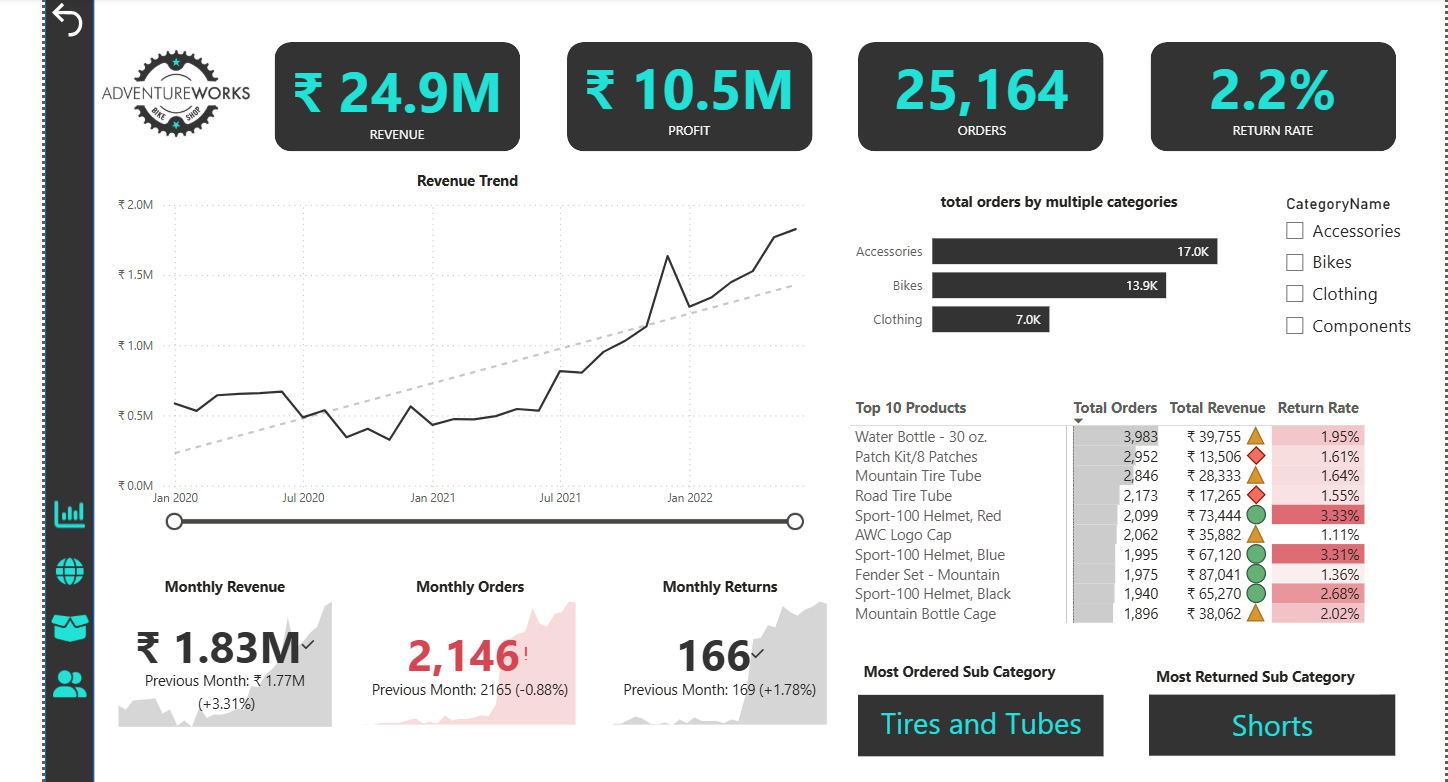

The dashboard page shown, as its layout file describes it:
{"tool":"powerbi","page":{"name":"Exe Dashboard","canvas":[1280,720],"ordinal":0},"visuals":[{"type":"image","title":"Company Logo","box":[37,0,165.9,176.9],"z":0},{"type":"shape","box":[209.8,41.1,224.9,100.1],"z":0,"group":"g1"},{"type":"shape","title":"Left Navigtion Pane","box":[0,0,45,720],"z":1000},{"type":"shape","box":[743.7,41.1,224.9,100.1],"z":1000,"group":"g1"},{"type":"group","id":"g1","title":"KPI Background","box":[209.8,41.1,1025.8,100.1],"z":2000},{"type":"shape","box":[476.8,41.1,224.9,100.1],"z":2000,"group":"g1"},{"type":"card","fields":{"Values":["Measure Table.Total Revenue"]},"box":[197.5,27.4,248.2,128.9],"z":3000},{"type":"shape","title":"Shape","box":[1010.7,41.1,224.9,100.1],"z":3000,"group":"g1"},{"type":"card","fields":{"Values":["Measure Table.Total Profit"]},"box":[464.7,24.8,247.7,128.2],"z":4000},{"type":"card","fields":{"Values":["Measure Table.Total Orders"]},"box":[728.4,24.8,256.4,128.2],"z":5000},{"type":"card","fields":{"Values":["Measure Table.Return Rate"]},"box":[995,24.8,256.4,128.2],"z":6000},{"type":"lineChart","title":"Revenue Trend","fields":{"Y":["Measure Table.Total Revenue"],"Category":["Calendar Lookup.Date.Variation.Date Hierarchy.Year","Calendar Lookup.Date.Variation.Date Hierarchy.Quarter","Calendar Lookup.Date.Variation.Date Hierarchy.Month","Calendar Lookup.Date.Variation.Date Hierarchy.Day"]},"box":[60.5,157.4,652.1,332.9],"z":7000},{"type":"kpi","title":"Monthly Revenue","fields":{"Indicator":["Measure Table.Total Revenue"],"Goal":["Measure Table.Previous Month Revenue"],"TrendLine":["Calendar Lookup.Start of Month"]},"box":[61.2,530.3,205.4,142.8],"z":8000},{"type":"kpi","title":"Monthly Orders","fields":{"TrendLine":["Calendar Lookup.Start of Month"],"Indicator":["Measure Table.Total Orders"],"Goal":["Measure Table.Previous Month Orders"]},"box":[287,530.3,203.9,141.3],"z":9000},{"type":"kpi","title":"Monthly Returns","fields":{"TrendLine":["Calendar Lookup.Start of Month"],"Indicator":["Measure Table.Total Returns"],"Goal":["Measure Table.Previous Month Returns"]},"box":[514.2,530.3,205.4,141.3],"z":10000},{"type":"barChart","fields":{"Category":["Product Categories Lookup.CategoryName"],"Y":["Measure Table.Total Orders"]},"box":[730.8,176.4,392.2,148.1],"z":11000},{"type":"pivotTable","fields":{"Rows":["Product Lookup.ProductName"],"Values":["Measure Table.Total Orders","Measure Table.Total Revenue","Measure Table.Return Rate"]},"box":[731,360.7,521.1,219.4],"z":12000},{"type":"card","title":"xxxxxxxxx","fields":{"Values":["Min(Product Subcategories Lookup.SubcategoryName)"]},"box":[743.8,634.3,224.7,60.4],"z":13000},{"type":"textbox","box":[744.1,602.7,225.2,35.7],"z":14000},{"type":"card","title":"xxxxxxxxx","fields":{"Values":["Min(Product Subcategories Lookup.SubcategoryName)"]},"box":[1009.7,638.4,225.2,55.9],"z":15000},{"type":"textbox","box":[1010.7,606.2,209.8,31.5],"z":16000},{"type":"actionButton","box":[0,0,45.3,41.1],"z":17000},{"type":"image","box":[0,455.4,45.4,34.8],"z":18000},{"type":"image","box":[0,507.4,45.4,34.8],"z":19000},{"type":"image","box":[0,559.3,45.4,34.8],"z":20000},{"type":"image","box":[0,611.3,45.4,34.8],"z":21000},{"type":"slicer","fields":{"Values":["Product Categories Lookup.CategoryName"]},"box":[1123,176,150,150],"z":22000}]}

Visuals, with their boxes on the page's 1280x720 design canvas (x1, y1, x2, y2). These are canvas units, not pixel positions in the 1448x782 screenshot, which may show the page scaled, cropped or inside an application window:
"Company Logo" image: box=[37, 0, 203, 177]
shape: box=[210, 41, 435, 141]
"Left Navigtion Pane" shape: box=[0, 0, 45, 720]
shape: box=[744, 41, 969, 141]
"KPI Background" group: box=[210, 41, 1236, 141]
shape: box=[477, 41, 702, 141]
card - Measure Table.Total Revenue: box=[198, 27, 446, 156]
"Shape" shape: box=[1011, 41, 1236, 141]
card - Measure Table.Total Profit: box=[465, 25, 712, 153]
card - Measure Table.Total Orders: box=[728, 25, 985, 153]
card - Measure Table.Return Rate: box=[995, 25, 1251, 153]
"Revenue Trend" lineChart: box=[60, 157, 713, 490]
"Monthly Revenue" kpi: box=[61, 530, 267, 673]
"Monthly Orders" kpi: box=[287, 530, 491, 672]
"Monthly Returns" kpi: box=[514, 530, 720, 672]
barChart - Product Categories Lookup.CategoryName x Measure Table.Total Orders: box=[731, 176, 1123, 324]
pivotTable - Product Lookup.ProductName x Measure Table.Total Orders: box=[731, 361, 1252, 580]
"xxxxxxxxx" card: box=[744, 634, 968, 695]
textbox: box=[744, 603, 969, 638]
"xxxxxxxxx" card: box=[1010, 638, 1235, 694]
textbox: box=[1011, 606, 1220, 638]
actionButton: box=[0, 0, 45, 41]
image: box=[0, 455, 45, 490]
image: box=[0, 507, 45, 542]
image: box=[0, 559, 45, 594]
image: box=[0, 611, 45, 646]
slicer - Product Categories Lookup.CategoryName: box=[1123, 176, 1273, 326]
